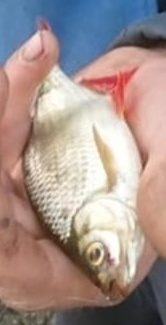Scardinius erythrophthalmus: (20, 20, 146, 305)
